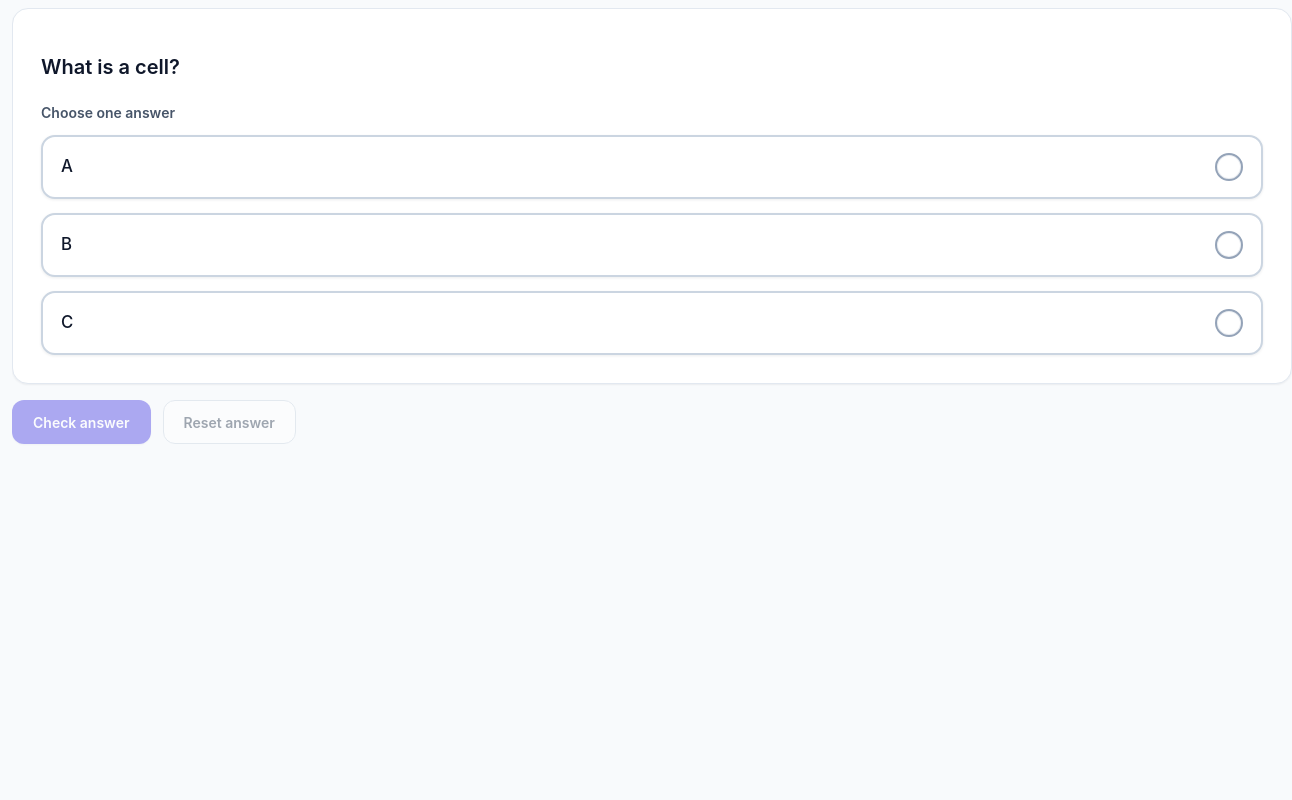
Test: PracticeRunner attempt payload › unknown result safely displays Answer saved
The width and height of the screenshot is (1292, 800).
Step 1. Click the radio button "A" → click(67, 166), box x1=41 y1=135 x2=1263 y2=199
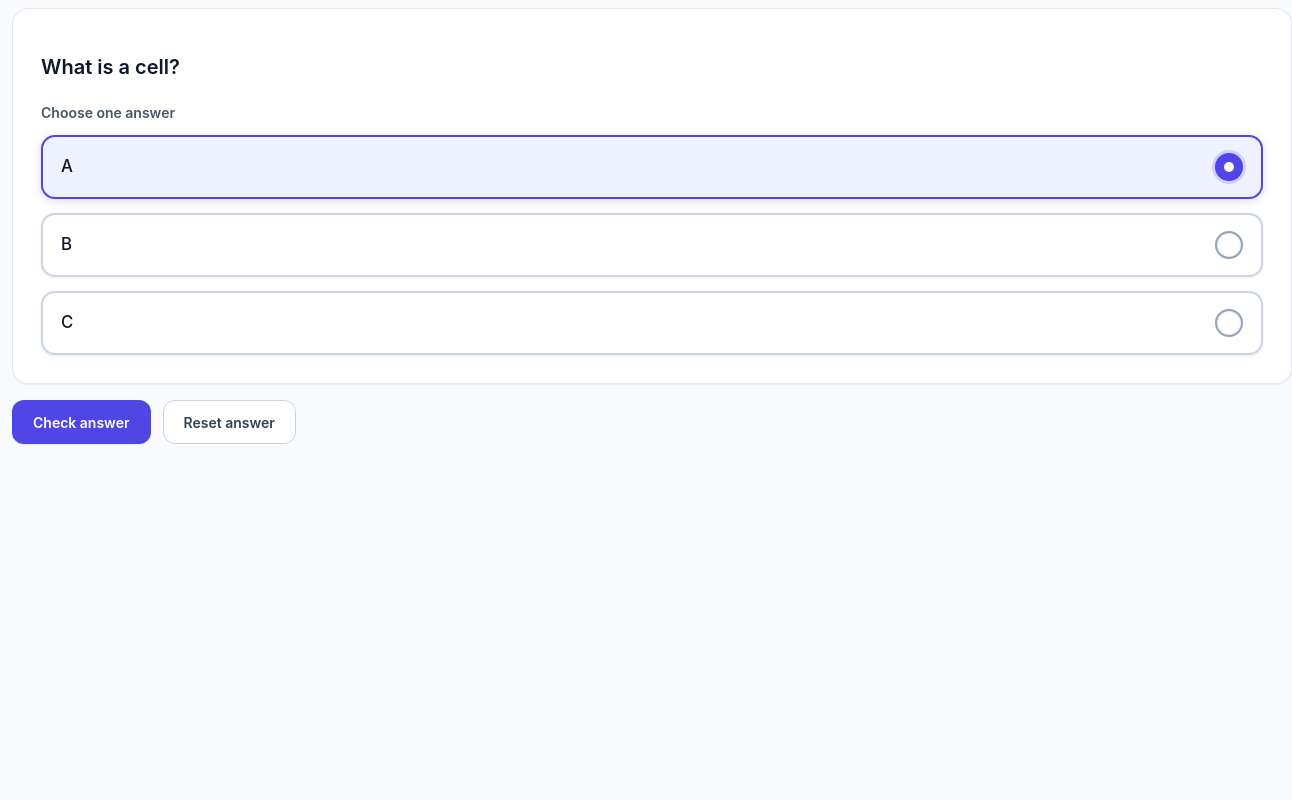
Step 2. Click the button "Check answer" → click(81, 422), box x1=12 y1=400 x2=150 y2=444
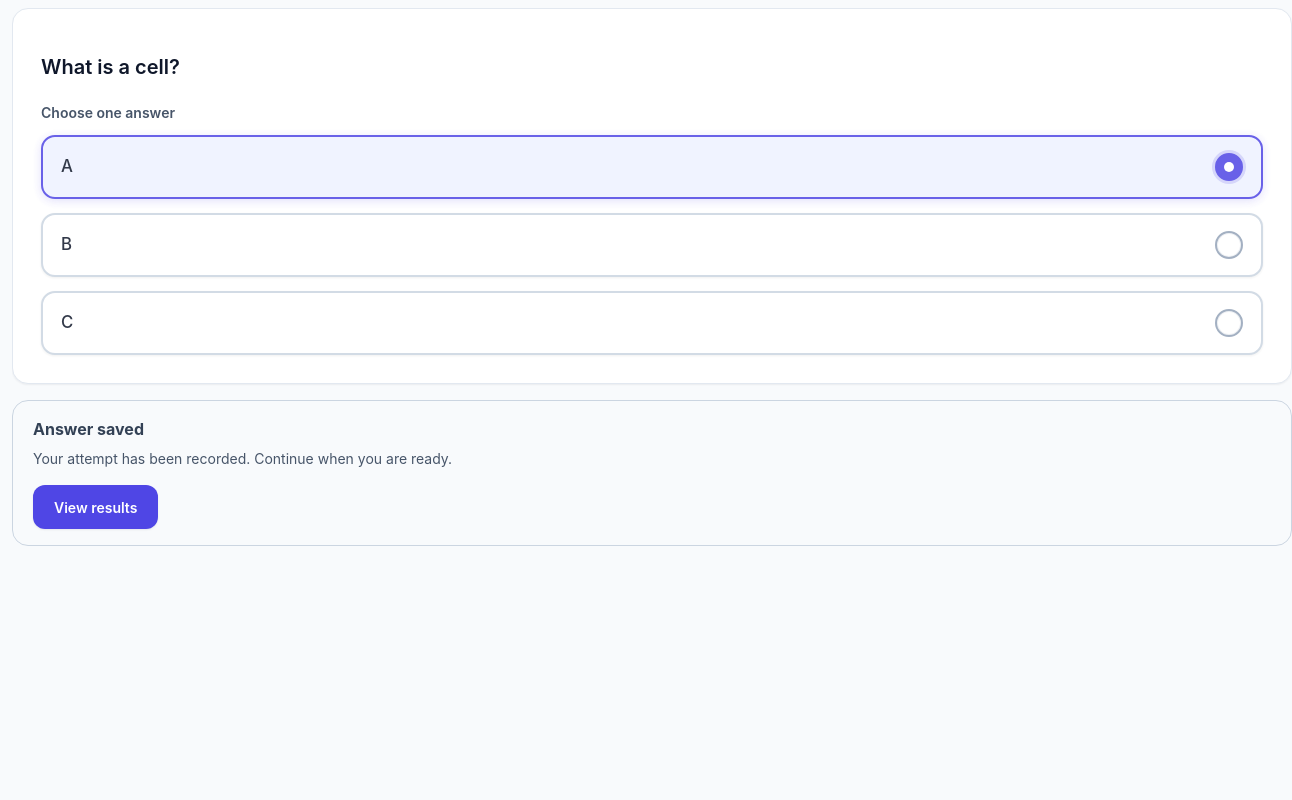
Now the element with test id "practice-feedback-panel" is shown, box x1=12 y1=400 x2=1291 y2=546
Now the text with test id "practice-feedback-title" reads "Answer saved", box x1=33 y1=419 x2=144 y2=439
